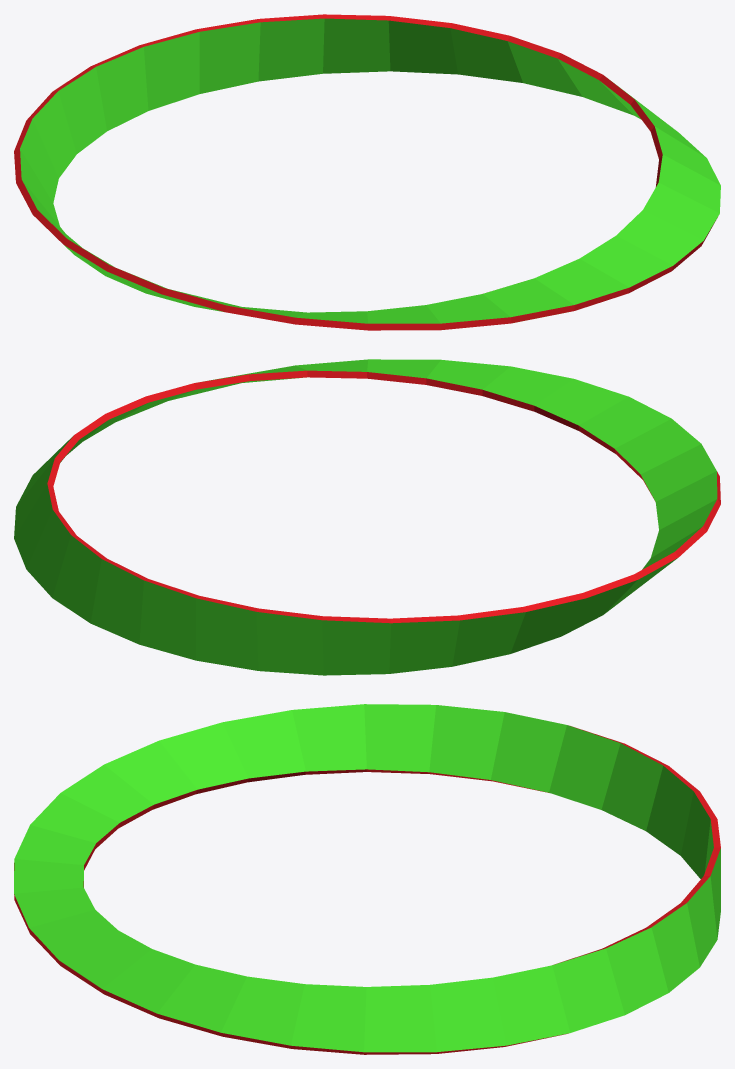
Rendered from Mobius_modified1.fbx.
3 views of the same model, one above another, from view 1: azimuth 30°, elevation 25°; view 2: azimuth 150°, elevation 25°; view 3: azimuth 270°, elevation 25° (orthographic).
Visible parts, largest first — view 1: Cube, Cube.058, Cube.059, Cube.057, Cube.060, Cube.056, Cube.061, Cube.055, Cube.062, Cube.015, Cube.016, Cube.014 (+13 smaller); view 2: Cube, Cube.030, Cube.029, Cube.031, Cube.028, Cube.032, Cube.027, Cube.033, Cube.026, Cube.011, Cube.010, Cube.012 (+12 smaller); view 3: Cube, Cube.021, Cube.022, Cube.004, Cube.005, Cube.023, Cube.020, Cube.003, Cube.006, Cube.019, Cube.024, Cube.007 (+19 smaller).
Boxes of the visible parts, box(x1,y1,x2,y2) form: Cube: box(14, 14, 717, 330); Cube.058: box(258, 18, 324, 81); Cube.059: box(199, 22, 260, 93); Cube.057: box(323, 18, 390, 73); Cube.060: box(144, 32, 199, 110); Cube.056: box(388, 20, 457, 74); Cube.061: box(96, 47, 148, 131); Cube.055: box(450, 28, 522, 82); Cube.062: box(58, 67, 106, 153); Cube.015: box(579, 235, 672, 287); Cube.016: box(616, 210, 703, 265); Cube.014: box(534, 258, 629, 304); Cube: box(47, 370, 720, 623); Cube.030: box(256, 612, 323, 675); Cube.029: box(196, 598, 258, 670); Cube.031: box(322, 620, 390, 675); Cube.028: box(139, 580, 195, 660); Cube.032: box(389, 620, 459, 673); Cube.027: box(90, 559, 143, 644); Cube.033: box(452, 612, 525, 666); Cube.026: box(52, 535, 101, 623); Cube.011: box(579, 396, 671, 448); Cube.010: box(615, 418, 701, 474); Cube.012: box(534, 379, 628, 425); Cube: box(14, 726, 720, 1054); Cube.021: box(364, 985, 436, 1052); Cube.022: box(430, 977, 506, 1051); Cube.004: box(429, 705, 504, 779); Cube.005: box(364, 704, 435, 772); Cube.023: box(493, 965, 569, 1045); Cube.020: box(291, 984, 366, 1052); Cube.003: box(491, 712, 566, 792); Cube.006: box(292, 704, 366, 771); Cube.019: box(221, 976, 304, 1045); Cube.024: box(552, 948, 624, 1032); Cube.007: box(222, 710, 305, 778).
Size of the model in its own units: 2066 by 201 by 2015.
